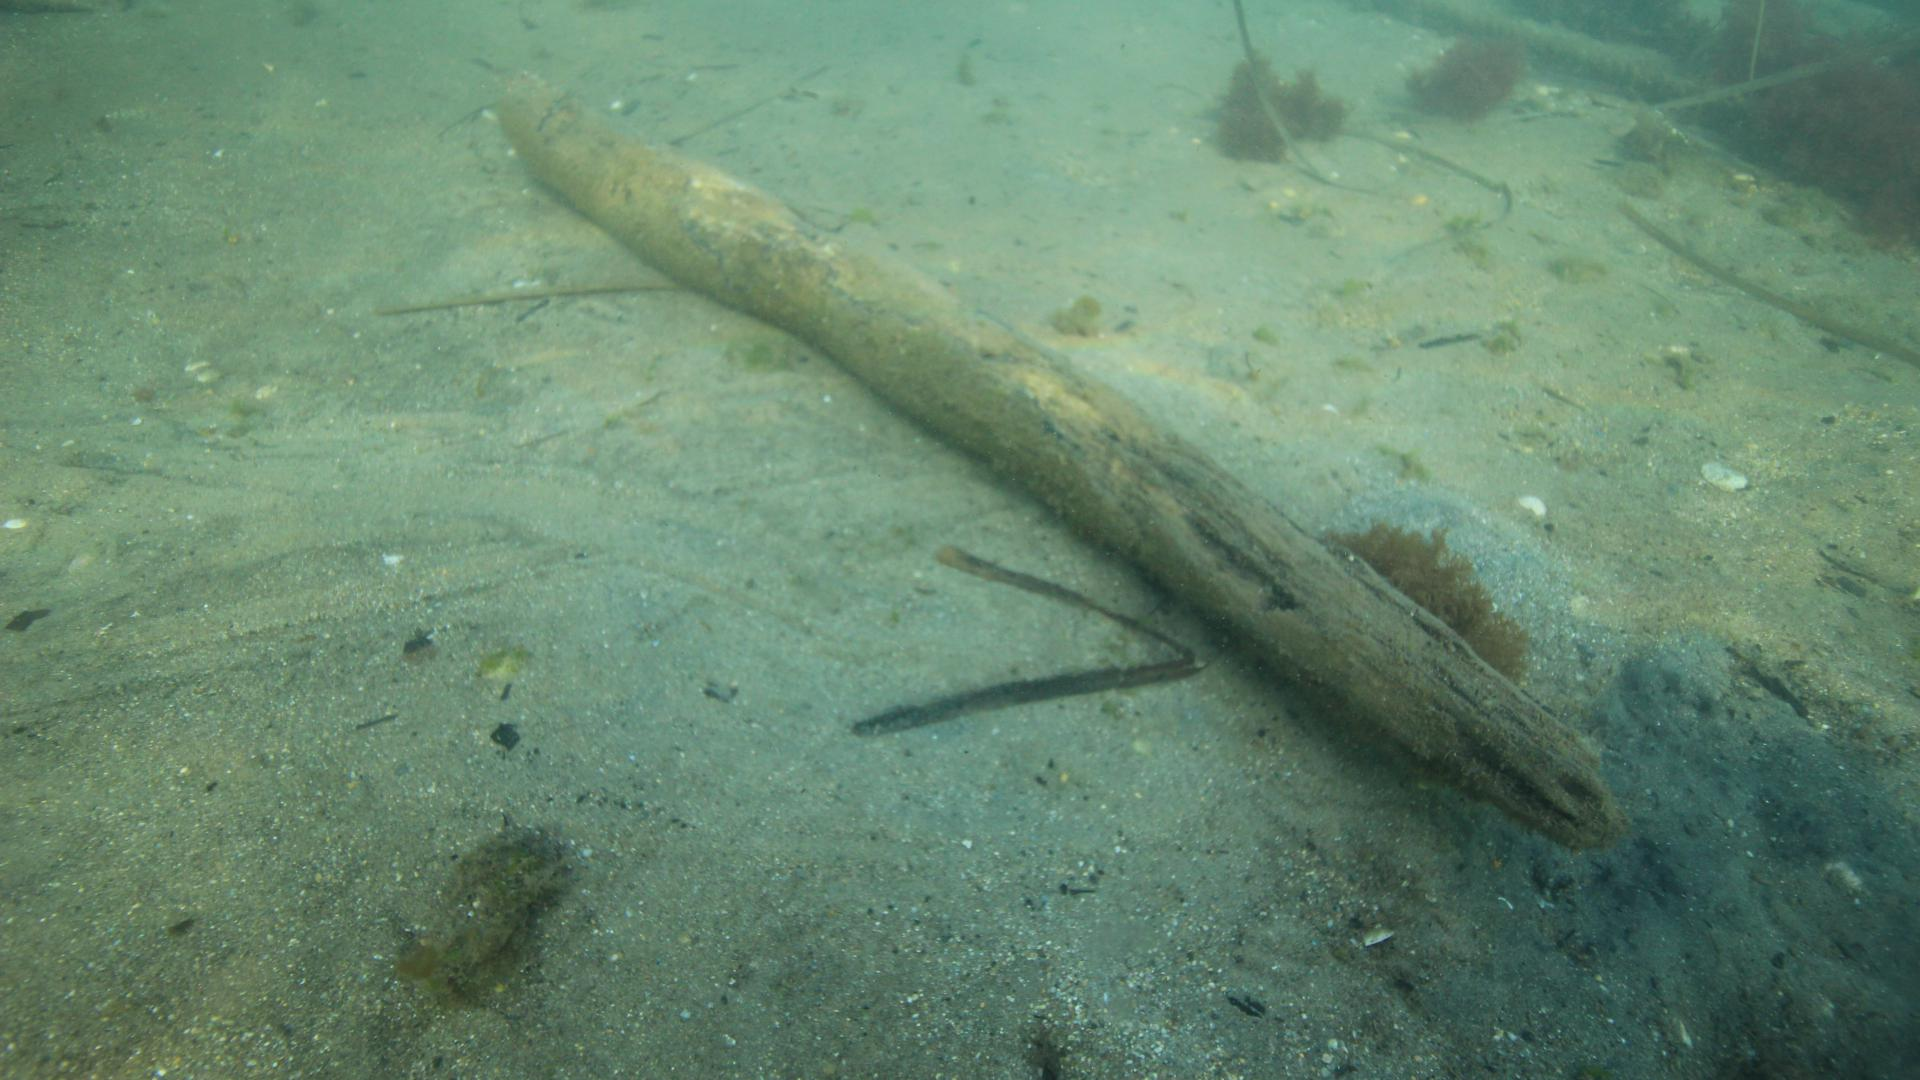wood: (493, 70, 1629, 855)
